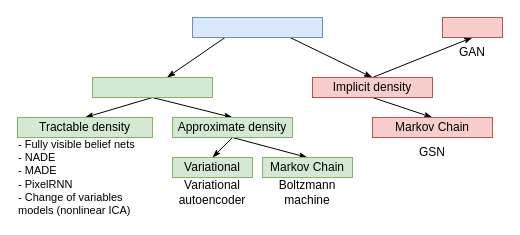
This 520x235 diagram has some shape labels left out. Here are the shapes that lost their labels. From the top down, the centre of each, then its label:
At point 257,27: "Maximum Likelihood".
At point 472,27: "Direct".
At point 152,87: "Explicit density".
